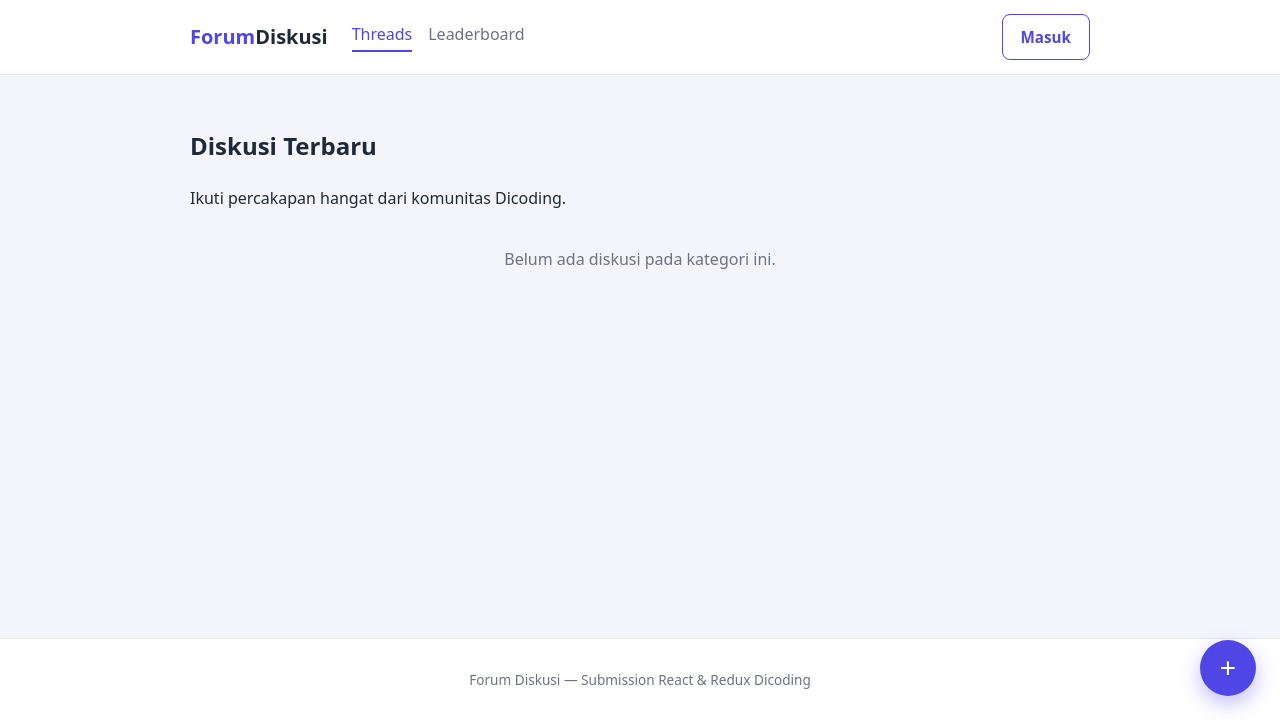
Test: Login spec › should display login page correctly
What coordinates should you click on to do the following:
click the link to "#/login"
I would click on:
 (1047, 37)
Its box is [1002, 14, 1091, 60].
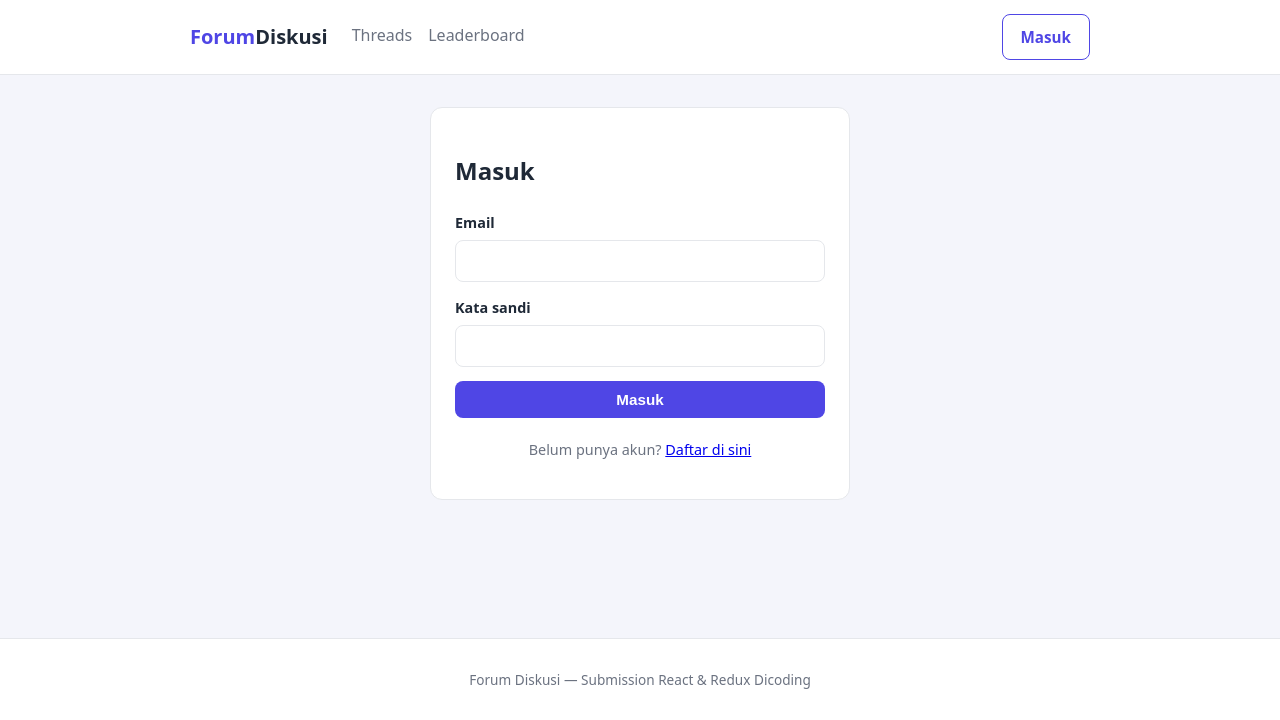
Expected: the password field labelled "Kata sandi" is shown, [455, 325, 825, 367]
Expected: the field with id "email" is shown, [455, 240, 825, 282]
Expected: the button "Masuk" is shown, [455, 381, 825, 418]
